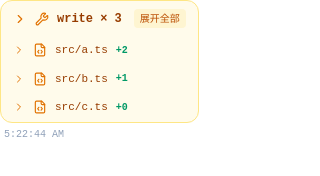
Scenario: FileToolGroupCard 文件列表 › 点击单个文件行只展开该文件明细，其它行仍收起
Click the button with test id "tool-file-row" showing "src/ b.ts +1" at (70,79), box [13,72,128,86]
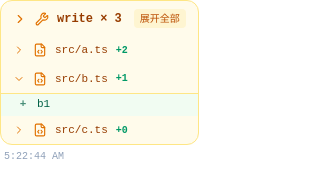
Expected: the button "展开全部" is shown, [134,9,186,28]
Expected: the element with test id "tool-file-detail" shows "b1", [37,98,50,110]
